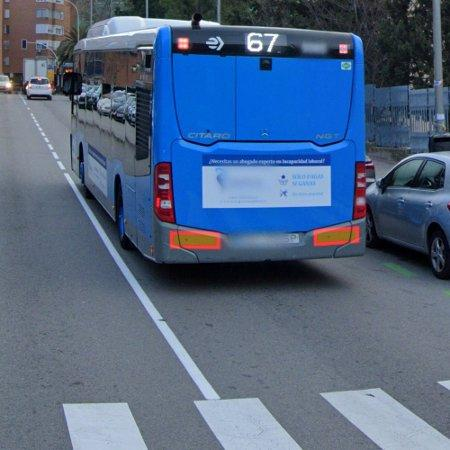crosswalks: (62, 378, 450, 450)
